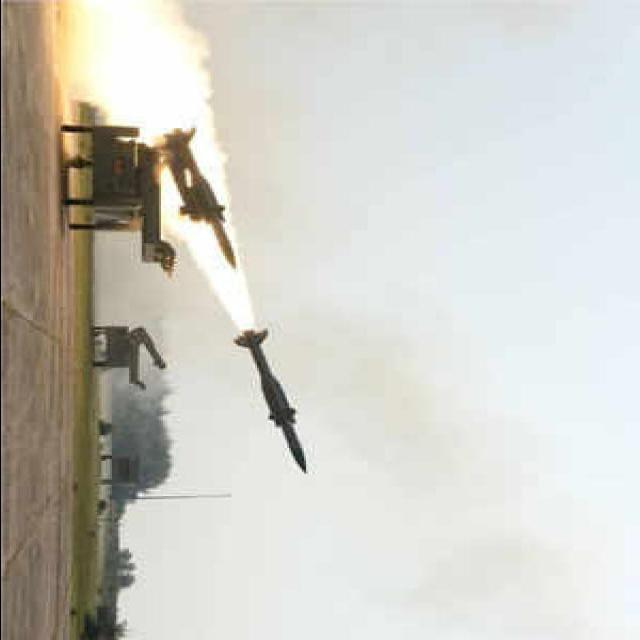missile: (232, 332, 322, 476)
